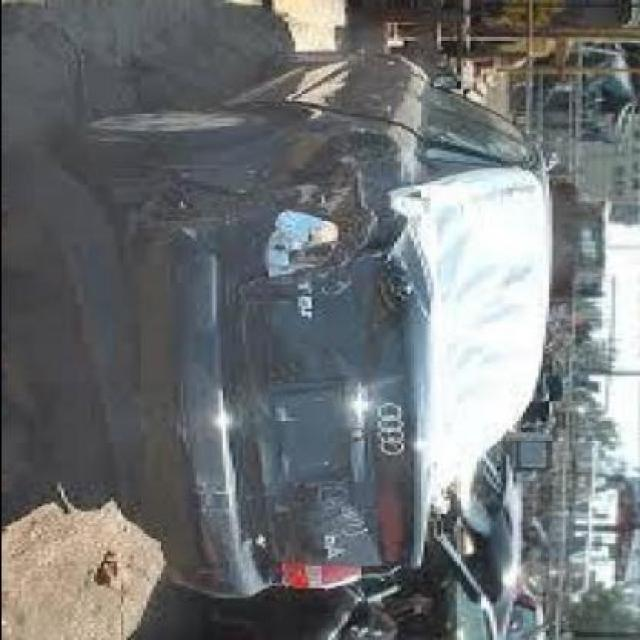damage: (11, 128, 542, 507)
